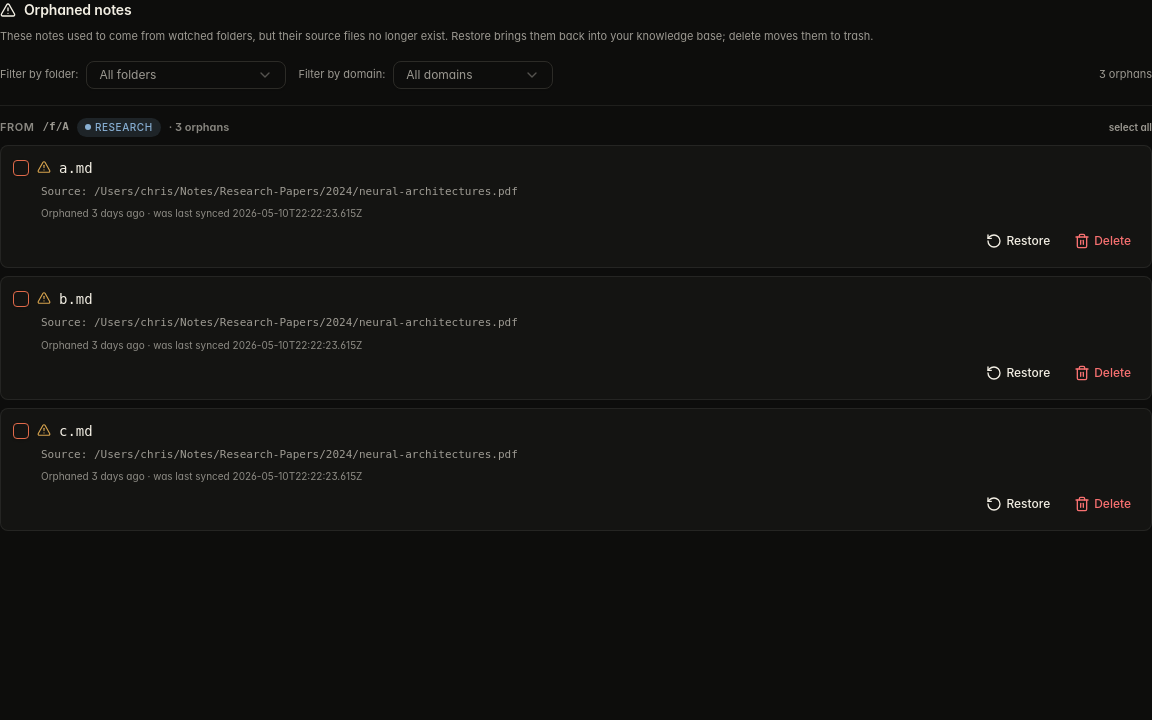
Test: PanelOrphans — bulk actions › bulk delete opens TypedConfirmDialog with the 'delete N notes' phrase
Expected: the number of list items with test id "orphan-row" is 3, [0,144,1151,268]; [0,276,1151,400]; [0,408,1151,531]
Click the button with test id "orphan-group-select-all-/f/A" at (1130, 127), box [1109,120,1151,134]
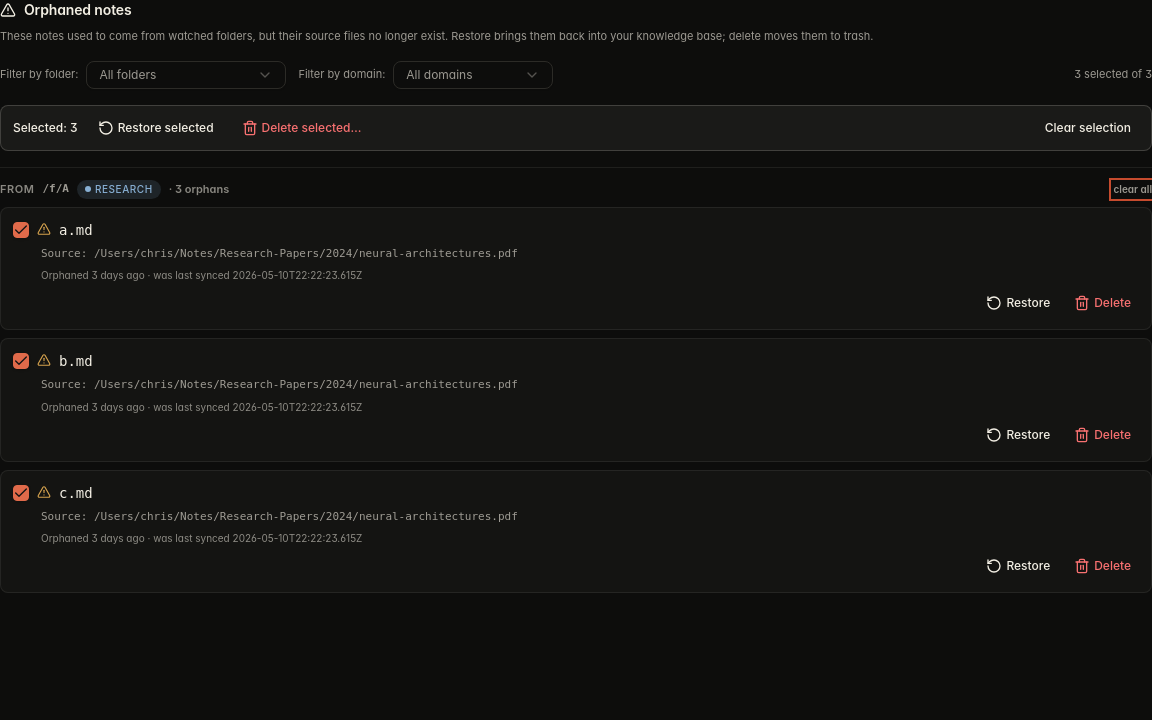
Click the button with test id "orphans-bulk-delete" at (302, 128), box [234,114,370,142]
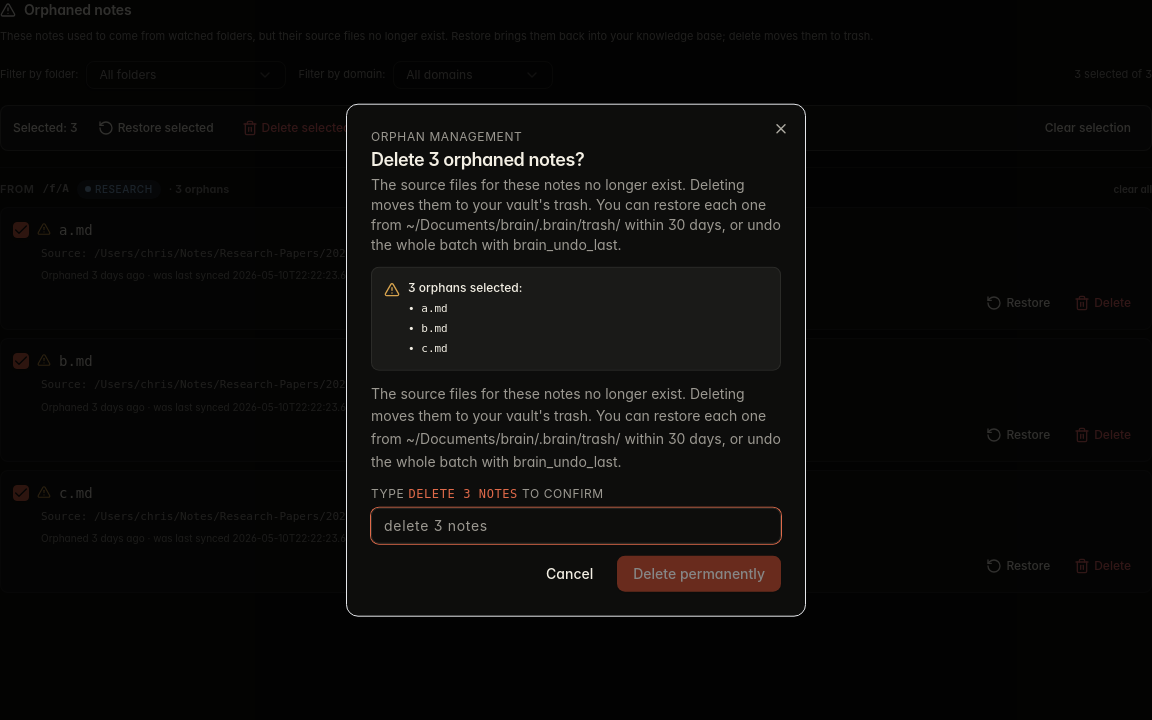
Expected: the heading "Delete 3 orphaned notes?" is shown, [371,149,584,170]
